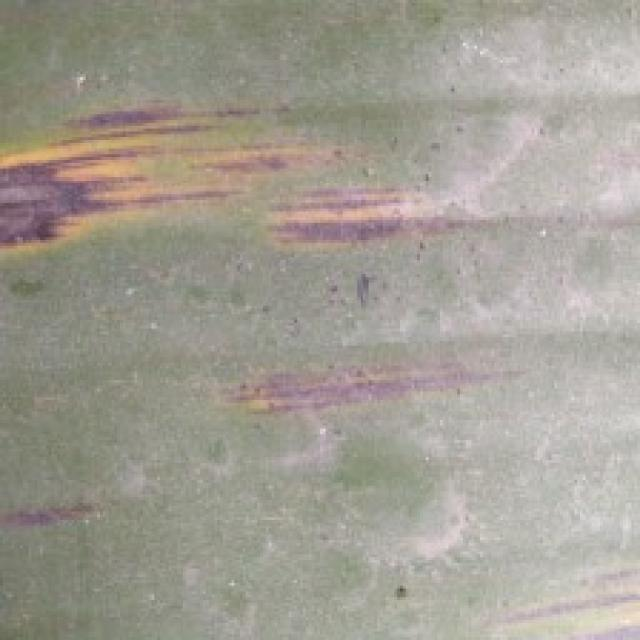Early_leaf_spot: (0, 89, 483, 268), (229, 337, 536, 429), (462, 550, 640, 640), (0, 466, 121, 537)
